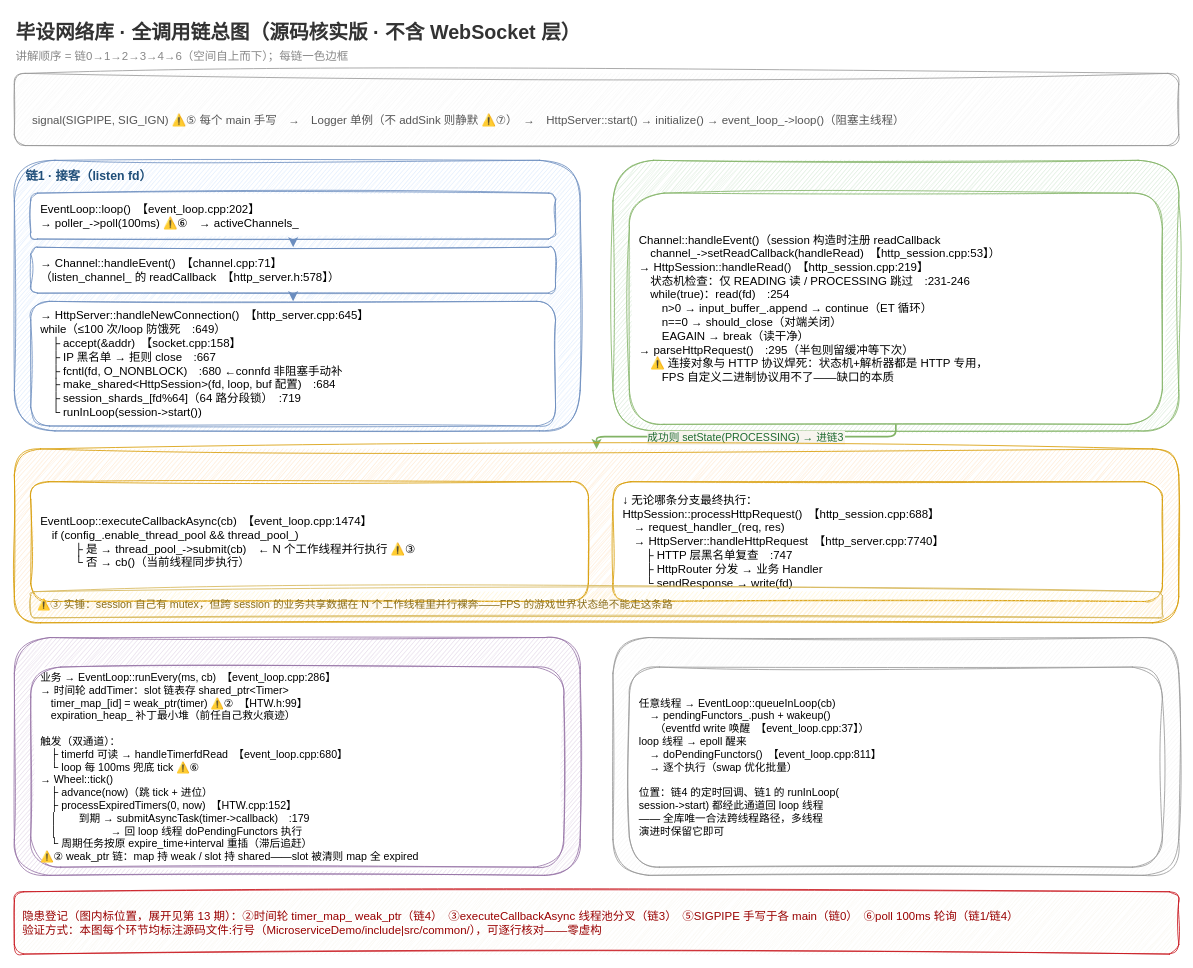
Some shapes in this 1193 by 968 pixel diagram are drawn without their labels. The shapes that lost their labels are listed below. From the top down, each one's box as (x1, y1, x2, y2) in pixels, then its label:
(14, 73, 1179, 146): 链0 · 装配（main.cpp 各服务）
(612, 159, 1179, 431): 链2 · 收包（conn fd）
(14, 448, 1179, 623): 链3 · 处理分叉（全图戏剧中心）
(14, 637, 580, 875): 链4 · 定时器
(612, 637, 1179, 875): 链6 · 跨线程投递（唯一通道）
